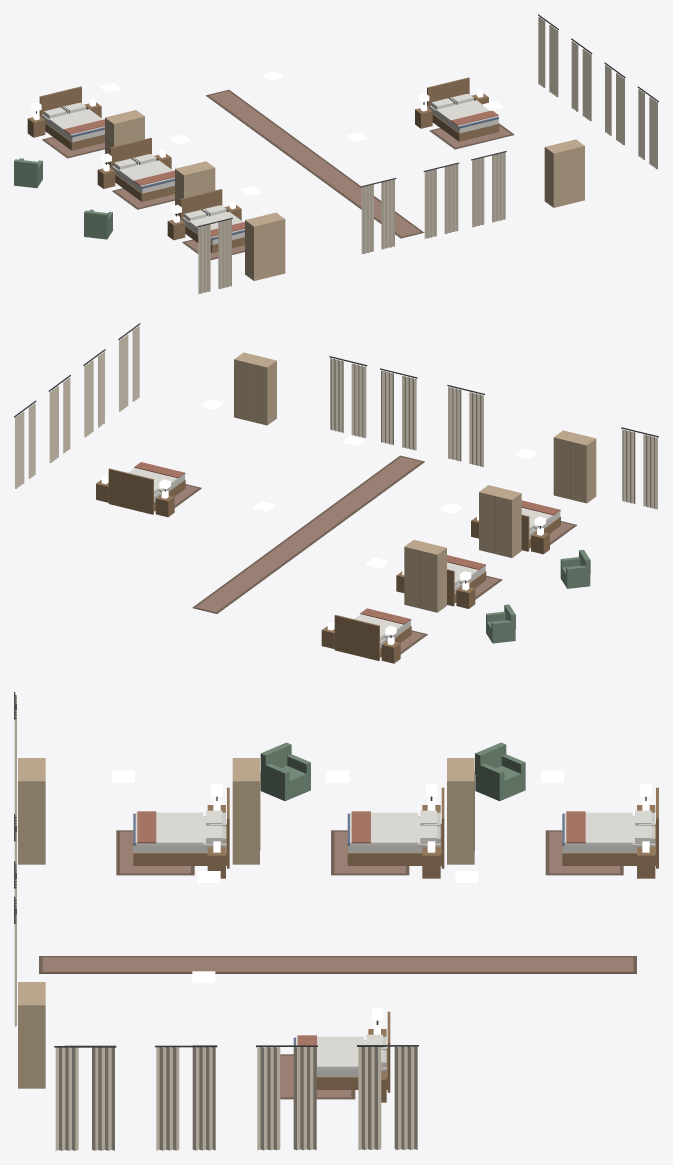
File: fine-s2.glb
The picture shows the model from 3 angles, top to bottom: view 1: azimuth 30°, elevation 25°; view 2: azimuth 150°, elevation 25°; view 3: azimuth 270°, elevation 25°; orthographic projection. The views are drawn at different scales.
Parts seen in each view (by area): view 1: soft-s2, dresser.007, dresser.004, bed-frame.004, bed-frame.005, bed-frame.006, bed-frame.007, dresser.006, dresser.005, lounge-chair.002, lounge-chair.003; view 2: soft-s2, dresser.007, dresser.004, dresser.005, dresser.006, bed-frame.004, bed-frame.005, lounge-chair.003, lounge-chair.002, bed-frame.007, bed-frame.006; view 3: soft-s2, dresser.006, dresser.004, dresser.005, dresser.007, lounge-chair.003, lounge-chair.002, bed-frame.006, bed-frame.007, bed-frame.005, bed-frame.004, nightstand.013 (+1 smaller).
Part boxes in pixels (bbox=[...]): soft-s2: bbox=[31, 14, 658, 294]; dresser.007: bbox=[245, 212, 285, 280]; dresser.004: bbox=[544, 139, 584, 207]; bed-frame.004: bbox=[427, 77, 499, 141]; bed-frame.005: bbox=[39, 86, 104, 150]; bed-frame.006: bbox=[109, 138, 174, 201]; bed-frame.007: bbox=[179, 189, 244, 253]; dresser.006: bbox=[175, 161, 215, 215]; dresser.005: bbox=[105, 110, 144, 164]; lounge-chair.002: bbox=[14, 158, 42, 188]; lounge-chair.003: bbox=[84, 209, 112, 239]; soft-s2: bbox=[14, 323, 658, 654]; dresser.007: bbox=[553, 430, 596, 503]; dresser.004: bbox=[234, 352, 276, 425]; dresser.005: bbox=[404, 540, 446, 612]; dresser.006: bbox=[479, 485, 521, 557]; bed-frame.004: bbox=[108, 468, 185, 514]; bed-frame.005: bbox=[334, 615, 411, 660]; lounge-chair.003: bbox=[560, 549, 590, 588]; lounge-chair.002: bbox=[486, 604, 515, 643]; bed-frame.007: bbox=[521, 510, 560, 551]; bed-frame.006: bbox=[447, 564, 486, 606]; soft-s2: bbox=[14, 692, 653, 1150]; dresser.006: bbox=[232, 758, 260, 864]; dresser.004: bbox=[18, 982, 45, 1088]; dresser.005: bbox=[447, 758, 474, 864]; dresser.007: bbox=[18, 758, 45, 864]; lounge-chair.003: bbox=[260, 742, 310, 800]; lounge-chair.002: bbox=[475, 742, 525, 801]; bed-frame.006: bbox=[347, 787, 444, 868]; bed-frame.007: bbox=[133, 787, 229, 868]; bed-frame.005: bbox=[562, 787, 658, 868]; bed-frame.004: bbox=[293, 1011, 390, 1092]; nightstand.013: bbox=[422, 841, 440, 878].
Size of the model in its own units: 19.19 by 2.56 by 14.02.
